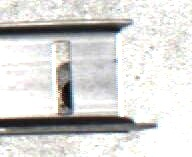40ngpress: (11, 19, 145, 132)
